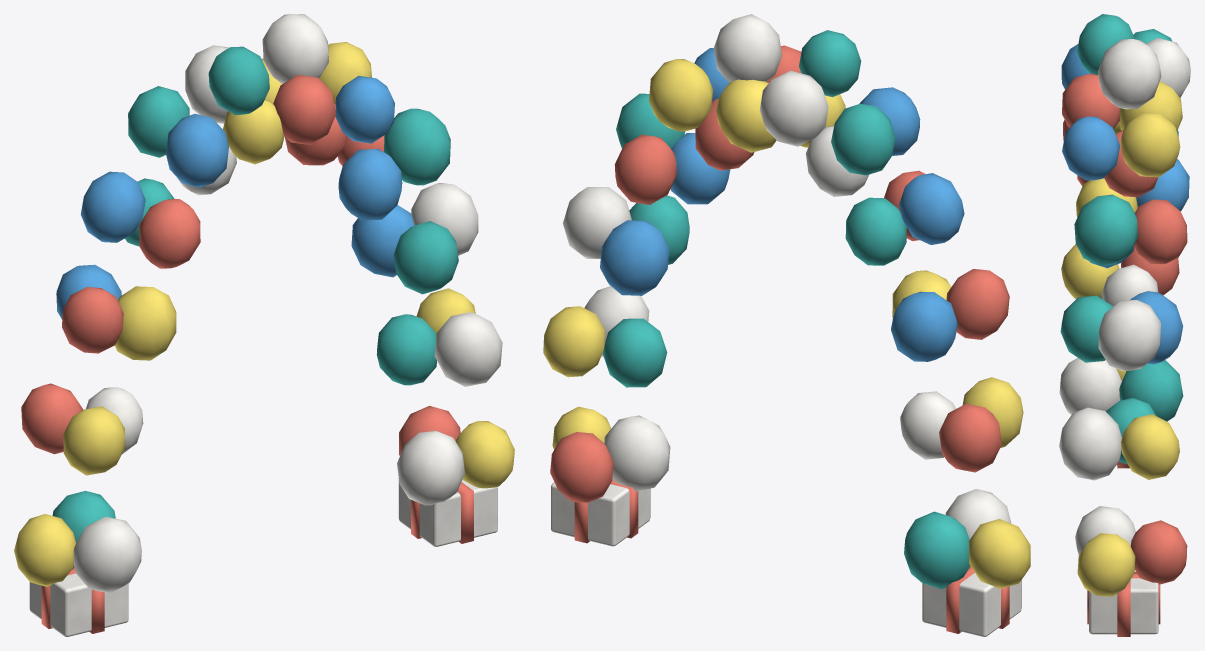
Rendered from Sorteio_BalloonArch.fbx.
3 views of the same model, side by side, from view 1: azimuth 30°, elevation 25°; view 2: azimuth 150°, elevation 25°; view 3: azimuth 270°, elevation 25° (orthographic). The views are drawn at different scales.
Parts seen in each view (by area): view 1: Sorteio_BalloonArch; view 2: Sorteio_BalloonArch; view 3: Sorteio_BalloonArch.
Boxes of the visible parts, left/top/right/bottom form: Sorteio_BalloonArch: left=14, top=14, right=514, bottom=636; Sorteio_BalloonArch: left=543, top=14, right=1030, bottom=636; Sorteio_BalloonArch: left=1059, top=14, right=1190, bottom=636.
Bounding box in the file's own units: 3.12 × 3.4 × 0.7925.
1 material, 1 textured.
